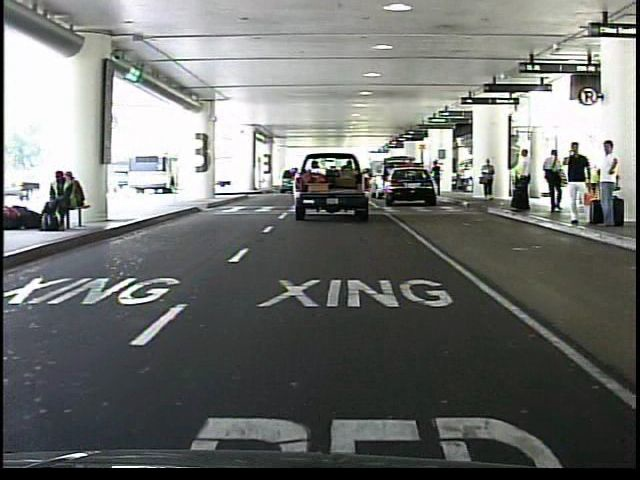person: (559, 139, 594, 228), (594, 137, 623, 235), (509, 146, 536, 215), (543, 145, 568, 216), (479, 158, 497, 204), (431, 160, 444, 199)
